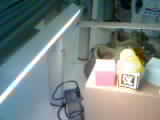duck: (107, 38, 143, 76)
